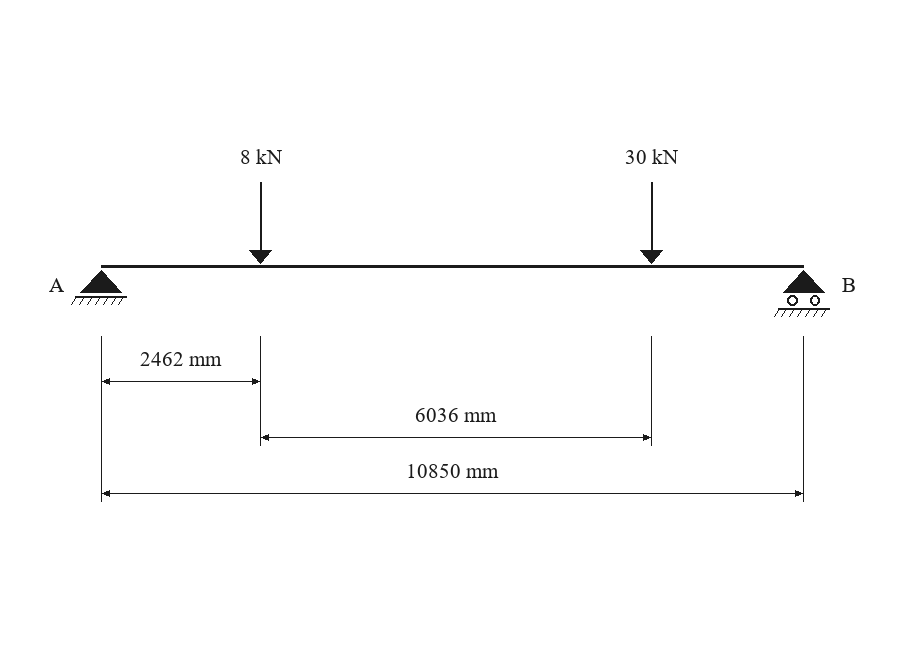pin_support: (71, 270, 127, 305)
point_load: (249, 182, 272, 264), (640, 182, 663, 264)
roller_support: (774, 270, 830, 317)
